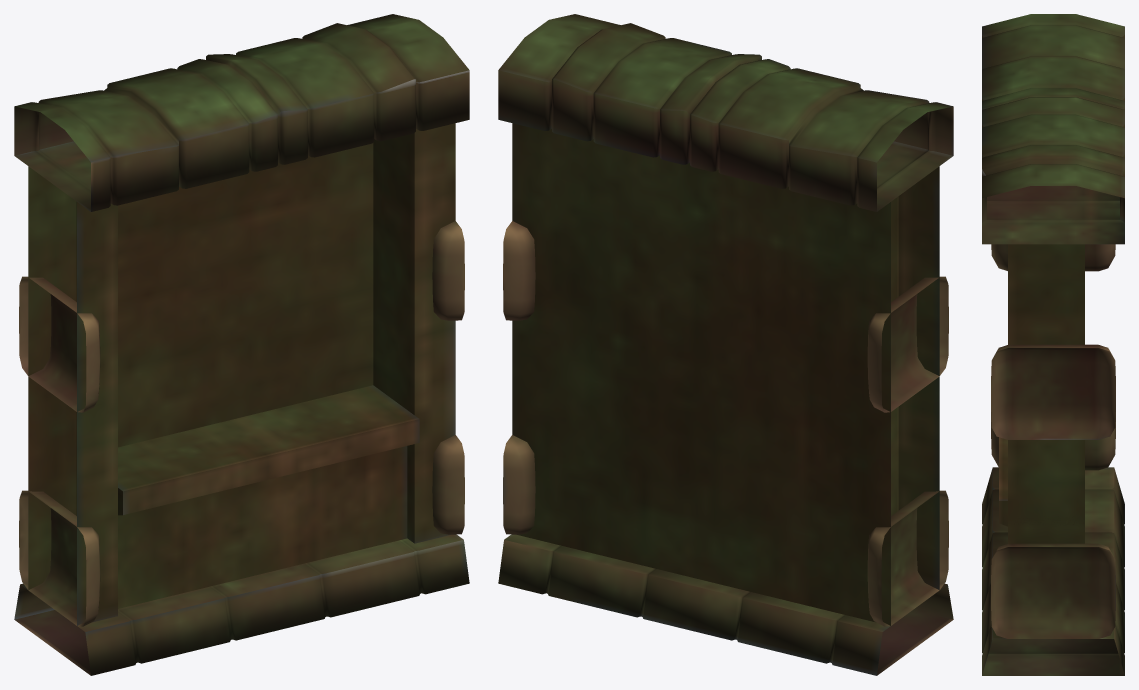
Rendered from ParedEstanteriaGrande.fbx.
The picture shows the model from 3 angles, left to right: view 1: azimuth 30°, elevation 25°; view 2: azimuth 150°, elevation 25°; view 3: azimuth 270°, elevation 25°; orthographic projection. The views are drawn at different scales.
Visible parts, largest first — view 1: Wall.011; view 2: Wall.011; view 3: Wall.011.
Part boxes in pixels (x1,y1,x2,y2): Wall.011: (14,14,469,675); Wall.011: (498,14,953,675); Wall.011: (982,14,1124,675).
Size of the model in its own units: 4 by 5.36 by 1.41.
